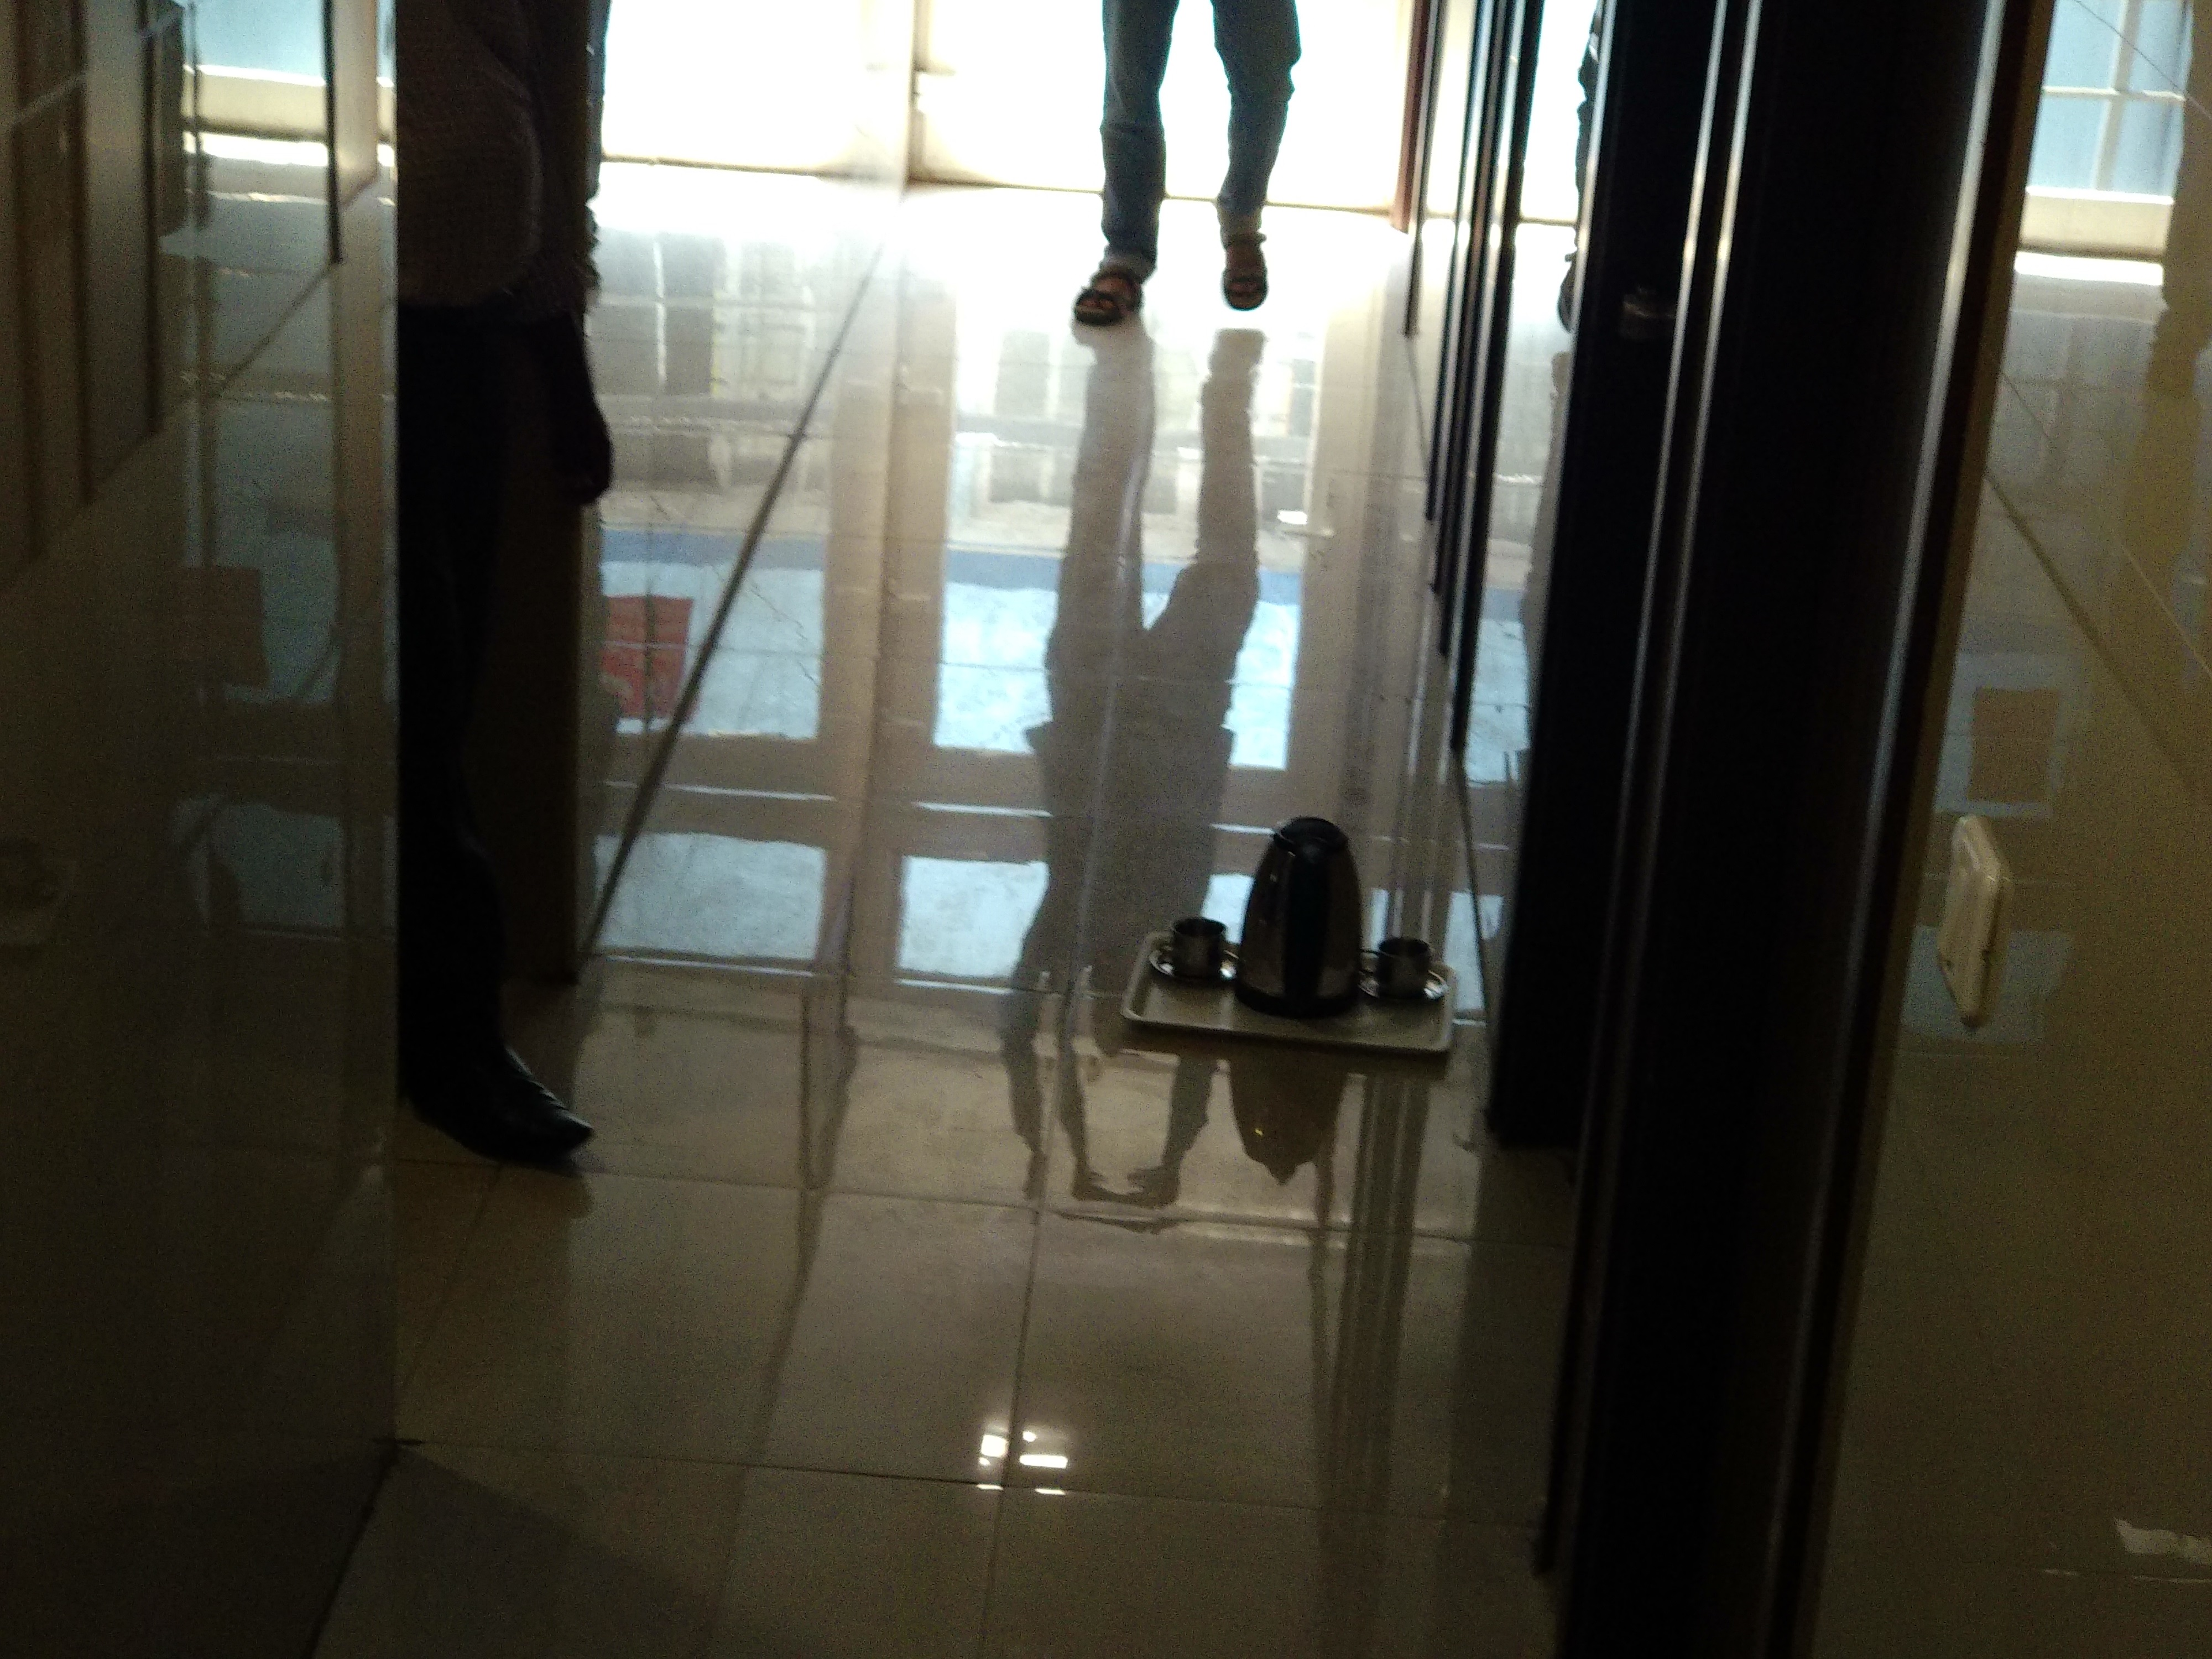CUP: (1372, 929, 1435, 1004), (1167, 918, 1230, 992)
JUG: (1242, 816, 1364, 1016)
